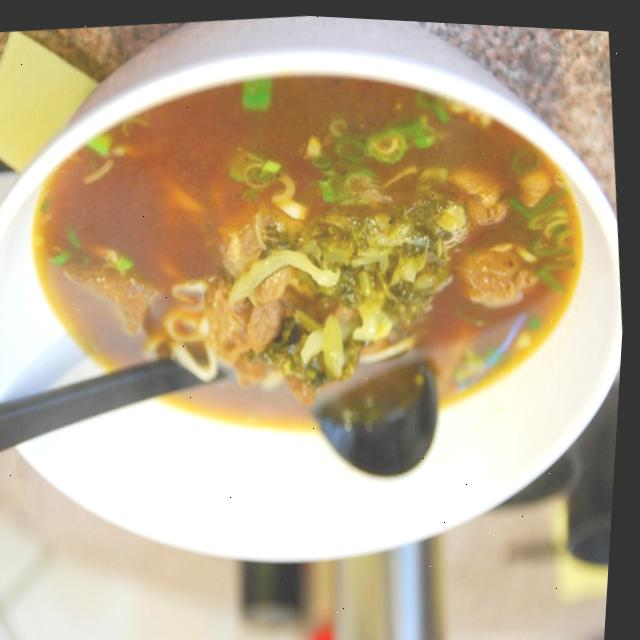面条主食: (6, 28, 615, 452)
